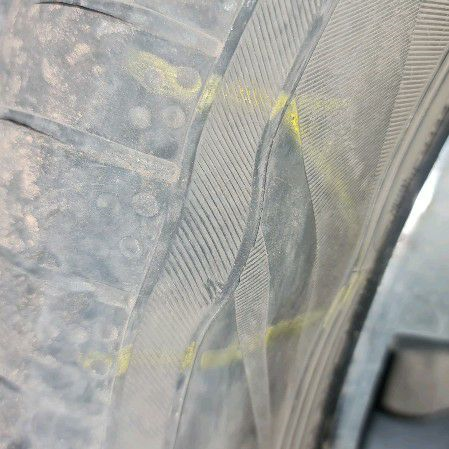CBU: (140, 100, 317, 372)
